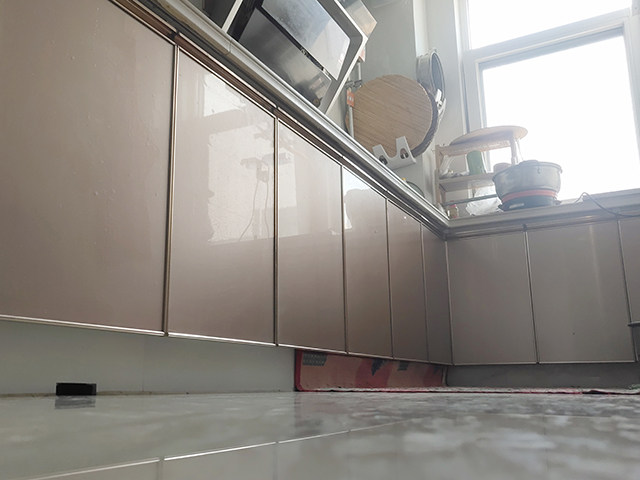cabinet: (1, 1, 450, 398), (452, 191, 640, 386)
carpet: (292, 348, 640, 396)
